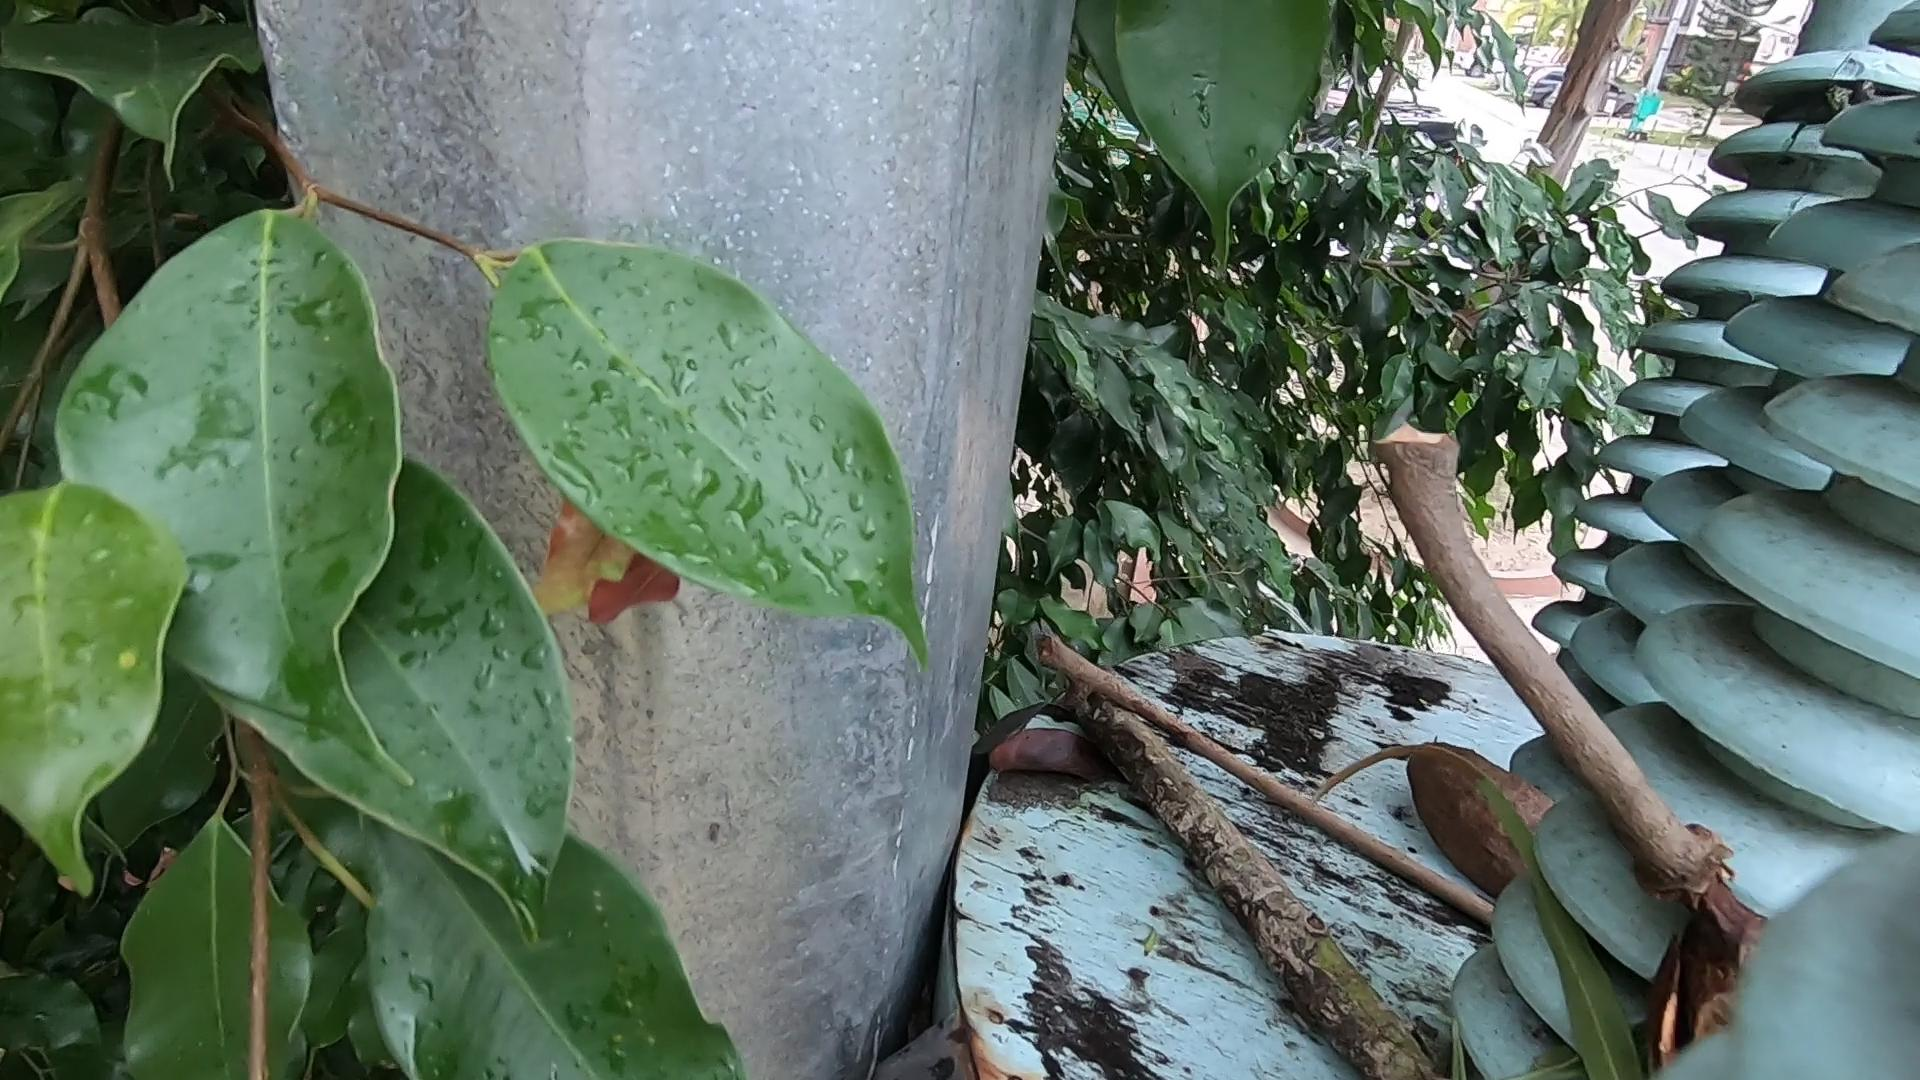branch with leaves: (1068, 630, 1373, 1080)
leaf: (971, 696, 1179, 778)
mahogany fruit: (1362, 707, 1611, 940), (1664, 878, 1797, 1071)
tree branch: (1396, 409, 1697, 874), (1031, 651, 1564, 894)
